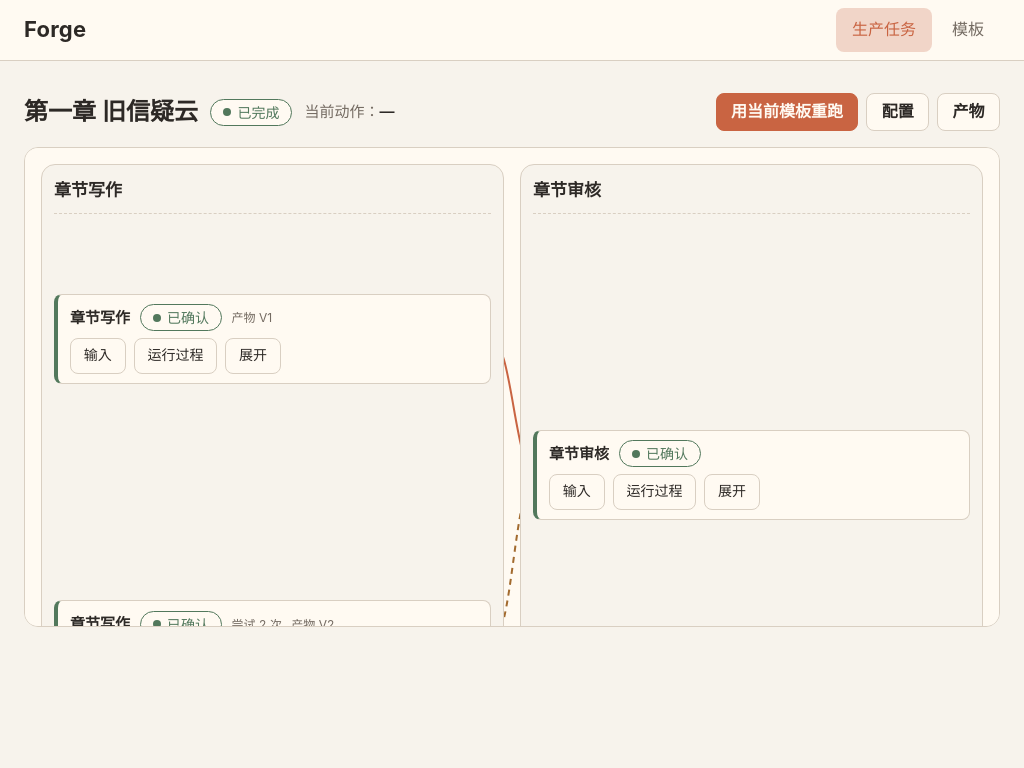
Scenario: ProductionPage › closes overlay drawers with Escape
Expected: the element with test id "workspace-canvas" is shown, [24,147,1000,627]
Click the button "配置" at (898, 112), box [866,93,929,131]
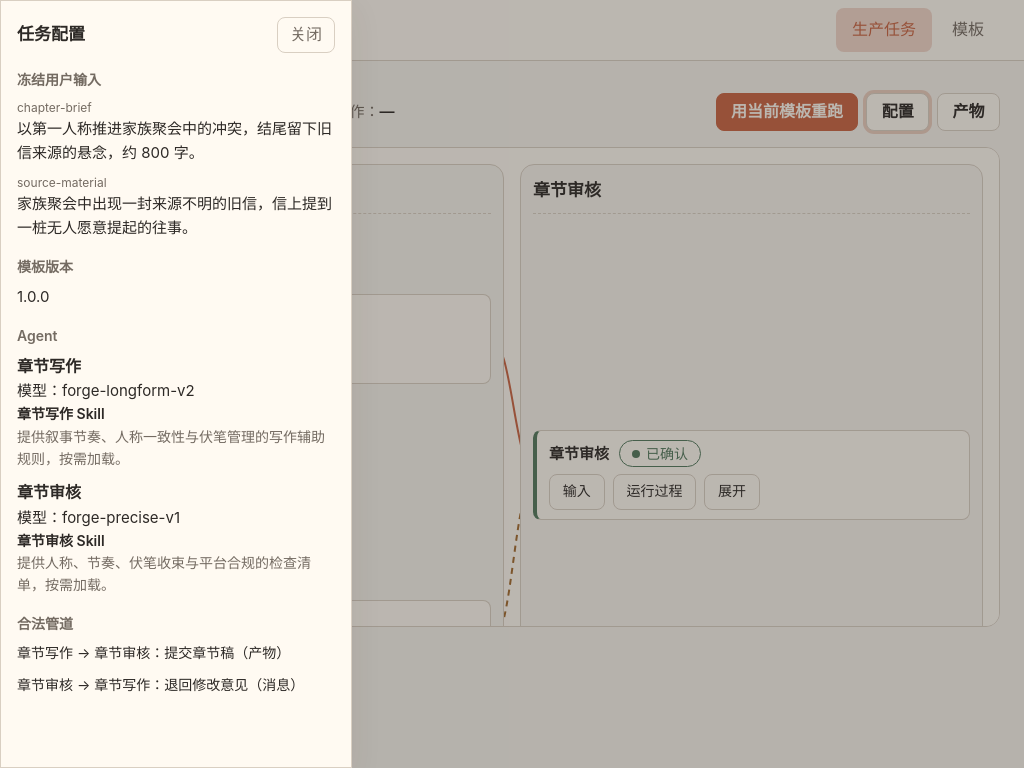
Expected: the element "任务配置" is shown, [0,0,352,767]
Press Escape
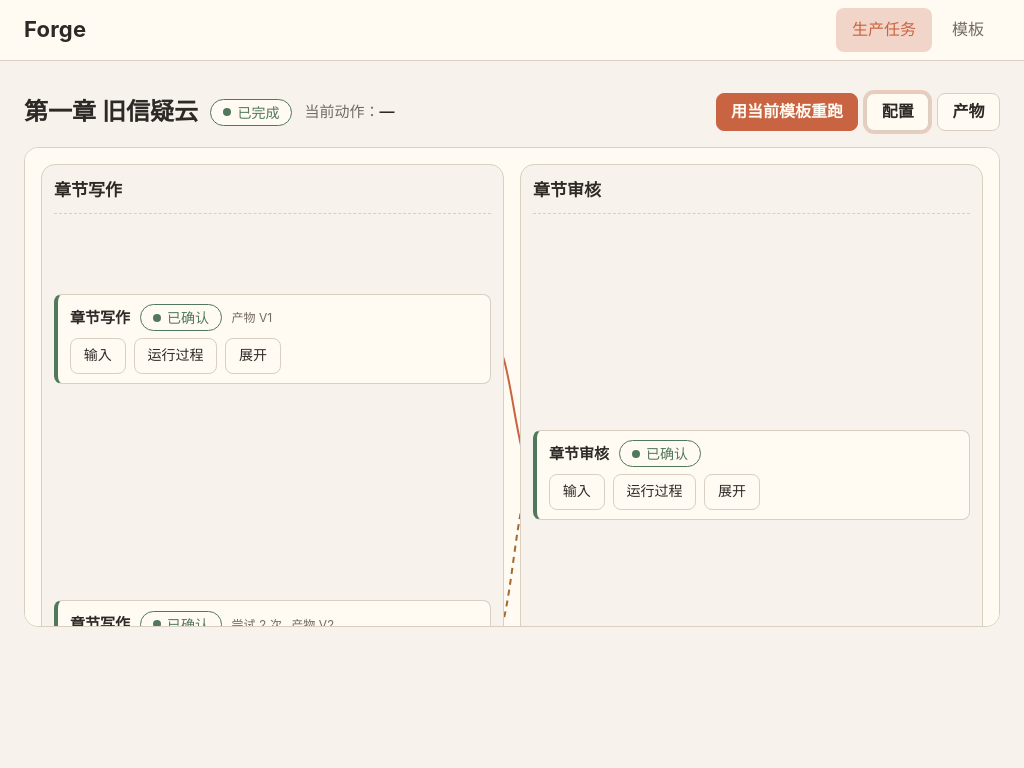
Expected: the heading "任务配置" is gone
